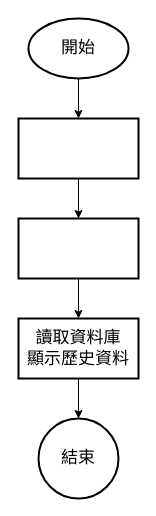
Some shapes in this 156 by 516 pixel diagram are drawn without their labels. Each missing label, with the box of its shape:
檢測表單勾選: (17, 117, 139, 179)
結果儲存 到資料庫: (17, 217, 139, 279)
